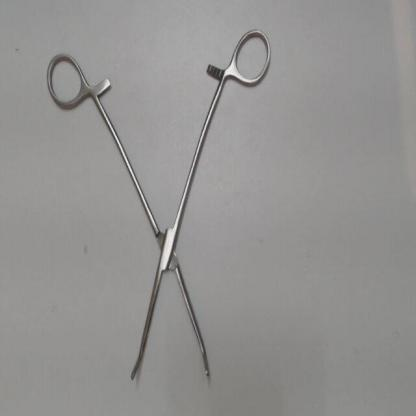Lahey Forceps: (41, 23, 276, 384)
